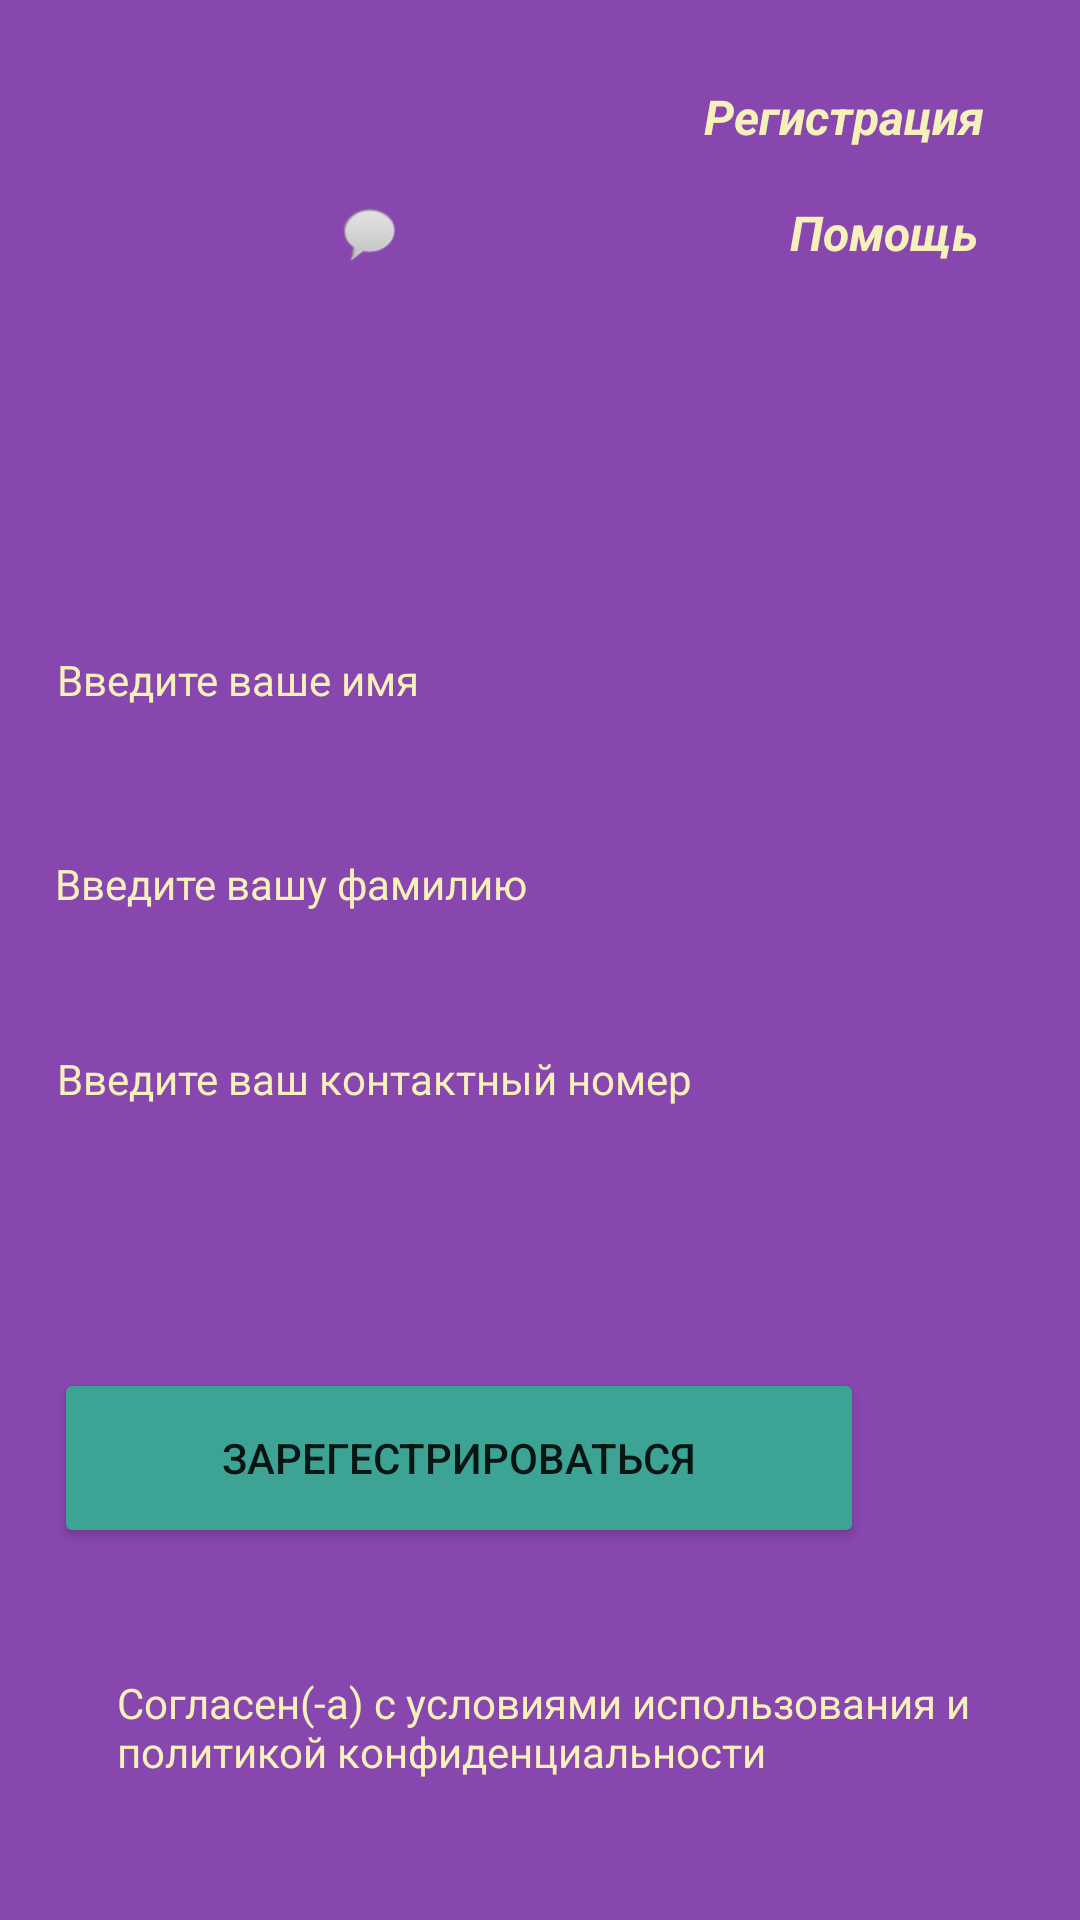

Where to tap for icons on this 1080x1920 app screen, as (x,y):
sym action chat: (369,235)
